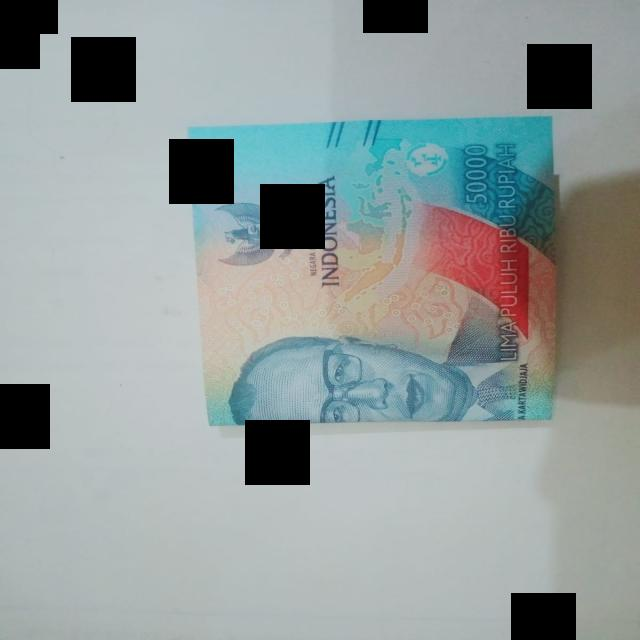lima puluh ribu rupiah: (190, 118, 555, 425)
